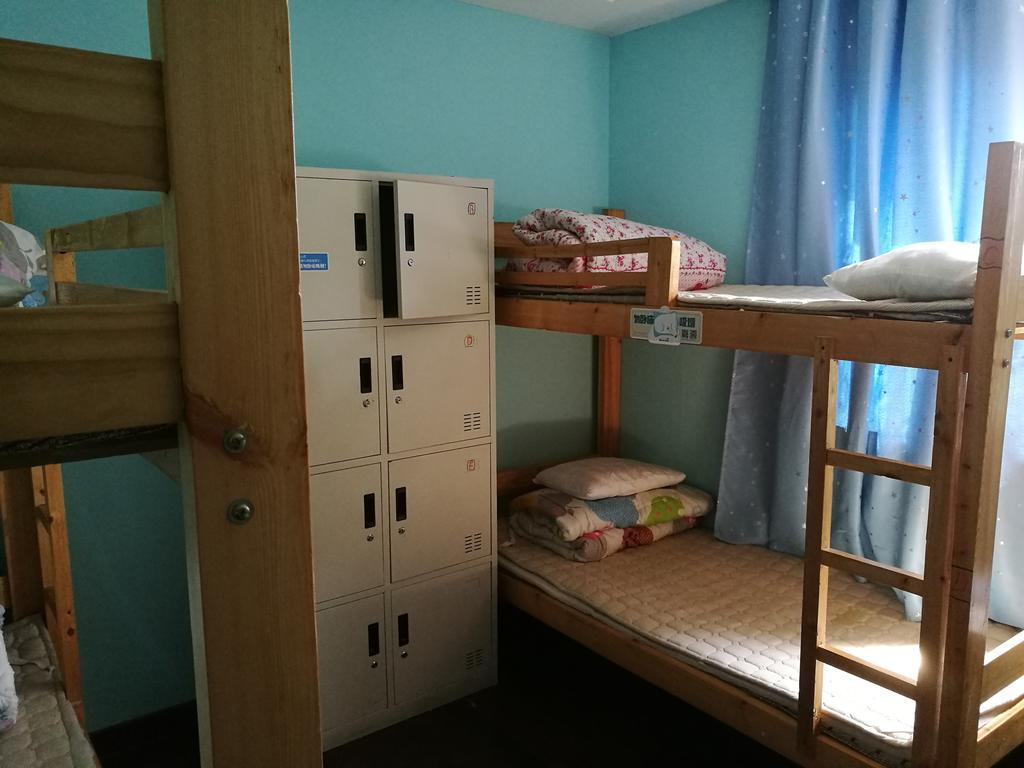bed: (575, 163, 1020, 358)
